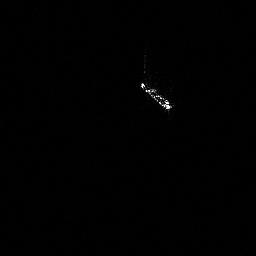ship: (137, 79, 176, 111)
